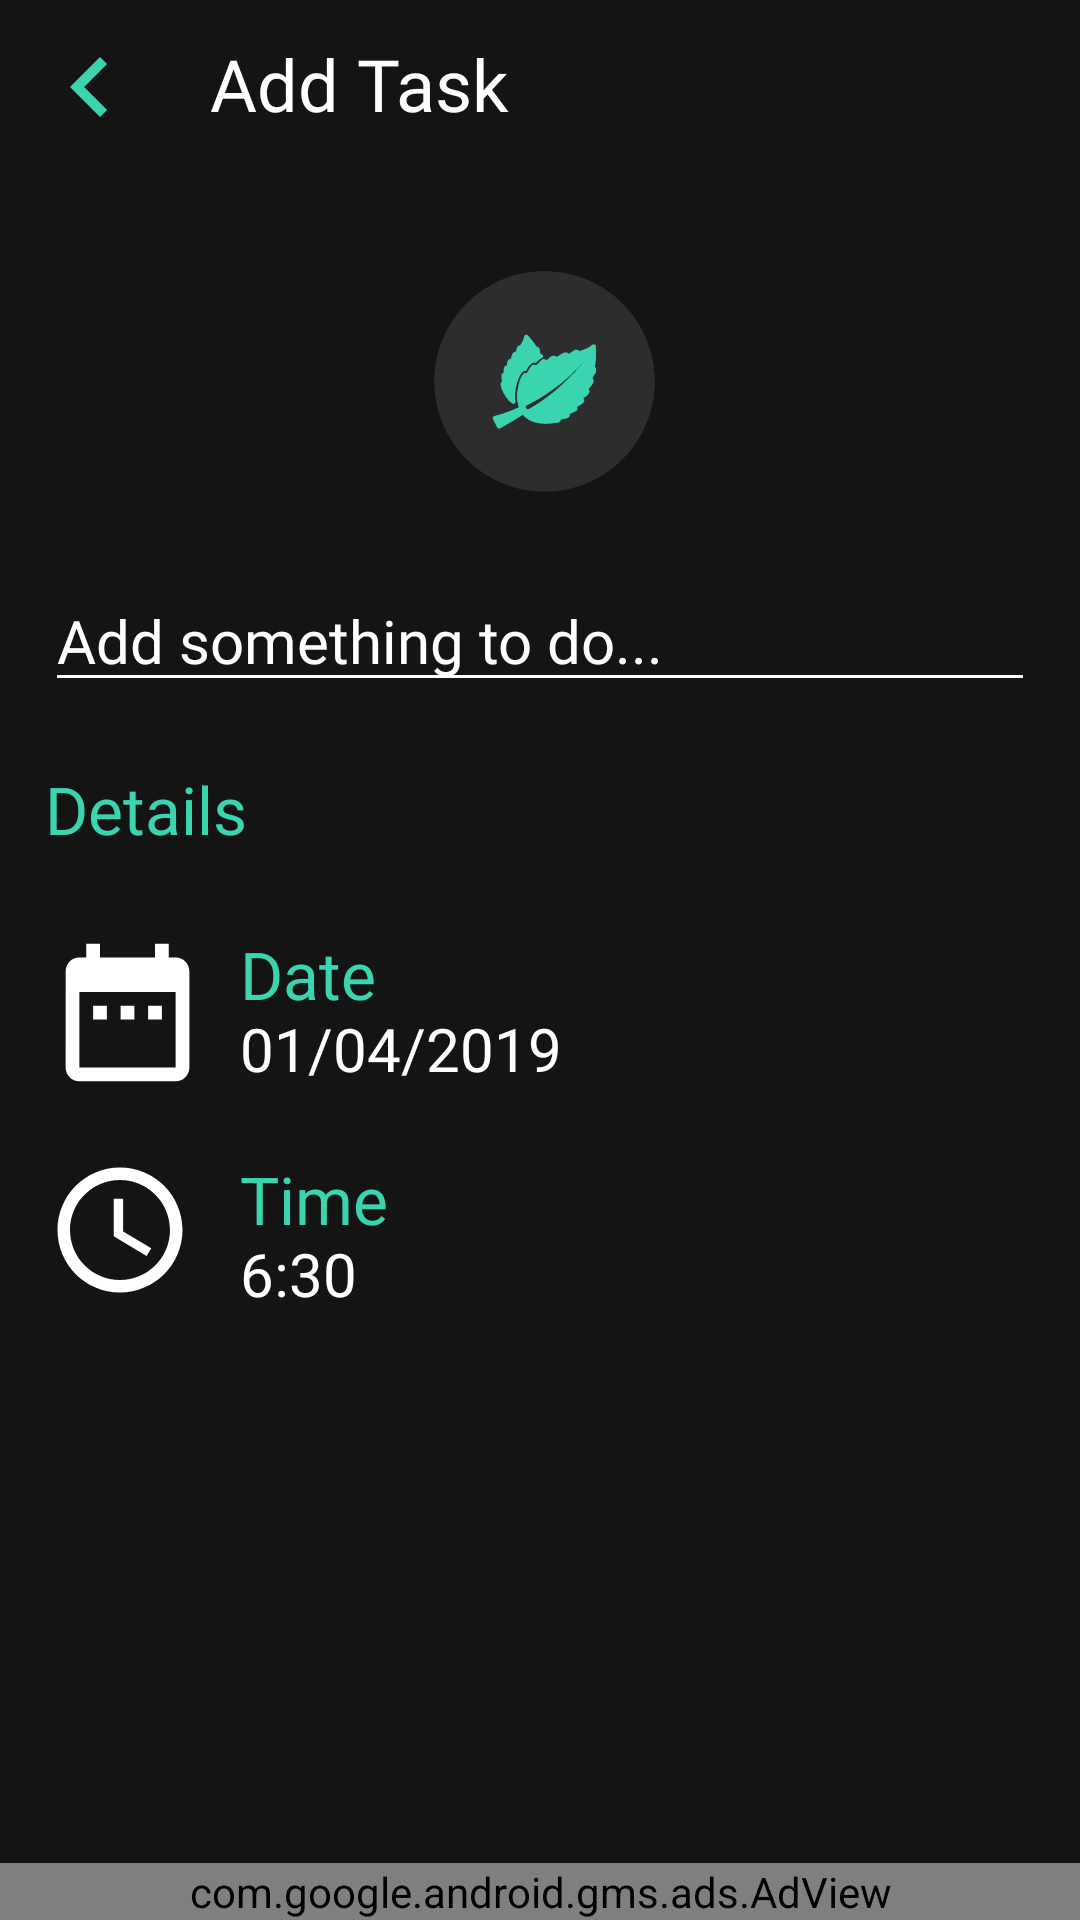

Icons on this 1080 × 1920 Android screen, each with its box as (x1, y1, x2, y2):
back arrow: (70, 57, 107, 117)
clock: (57, 1167, 183, 1293)
mint: (435, 271, 654, 491)
